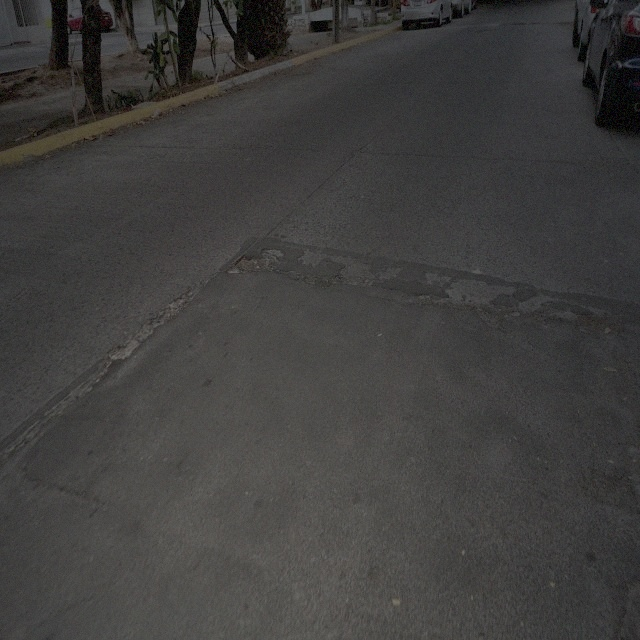pothole: (112, 286, 193, 361), (446, 275, 516, 313), (575, 313, 620, 338), (230, 255, 282, 274), (477, 306, 502, 339), (295, 271, 333, 290)
